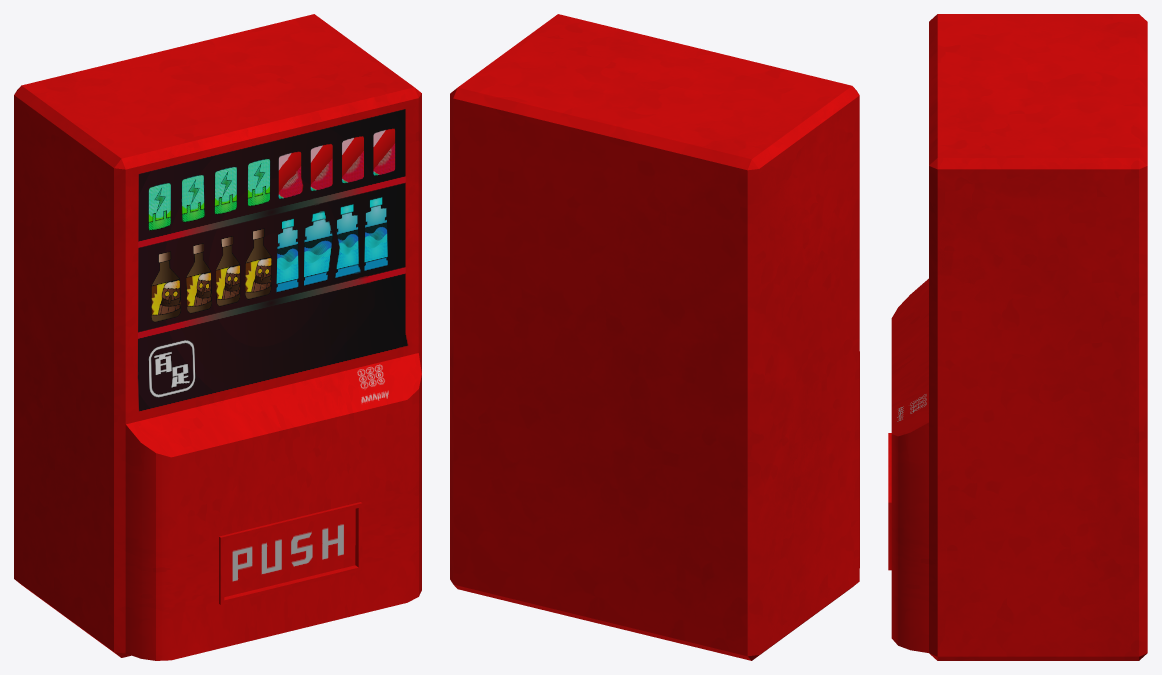
File: zihanki_red.fbx
The picture shows the model from 3 angles, left to right: view 1: azimuth 30°, elevation 25°; view 2: azimuth 150°, elevation 25°; view 3: azimuth 270°, elevation 25°; orthographic projection.
Parts seen in each view (by area): view 1: zihanki; view 2: zihanki; view 3: zihanki.
Part boxes in pixels (x1=…): zihanki: x1=14, y1=14, x2=421, y2=660; zihanki: x1=450, y1=14, x2=859, y2=660; zihanki: x1=888, y1=14, x2=1147, y2=660.
Bounding box in the file's own units: 127 × 197 × 92.12.
Materials: 1 (1 with a texture image).
